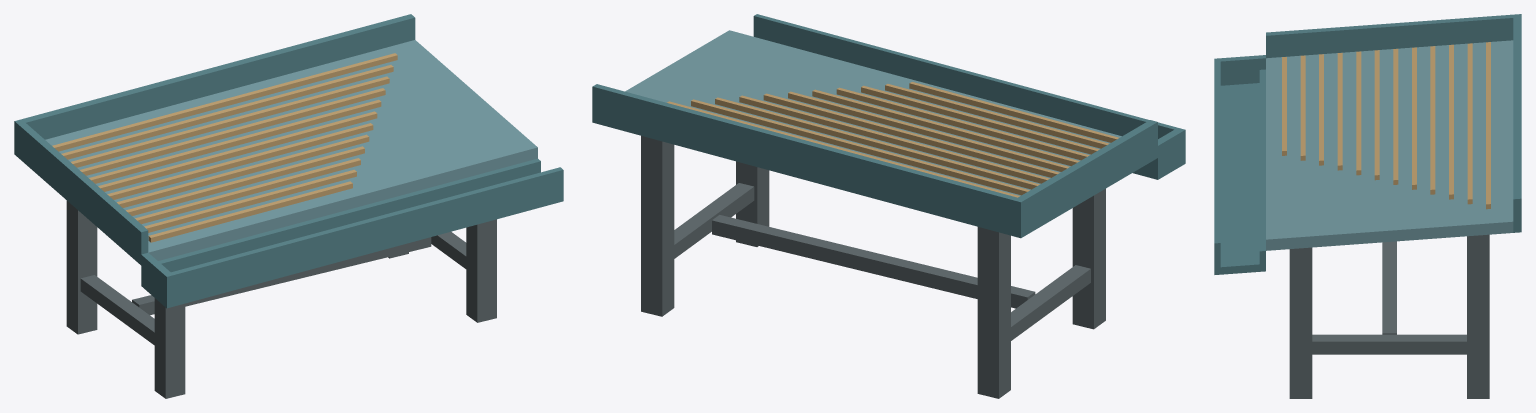
3 renders of one model, left to right at view 1: azimuth 30°, elevation 25°; view 2: azimuth 150°, elevation 25°; view 3: azimuth 270°, elevation 25°, orthographic. The views are drawn at different scales.
Parts seen in each view (by area): view 1: WholeSolidInclinedDressingDeck, FullCollectionOuterLip, HighSideContinuousGuard, FullCollectionInnerWall, FeedEndContinuousGuard, WholeGroundedLeg_-0.88_0.43, WholeGroundedLeg_0.88_-0.43, WholeGroundedLeg_-0.88_-0.43, WholeGraduatedRiffle_11, WholeGraduatedRiffle_10, WholeGraduatedRiffle_09, WholeGraduatedRiffle_08 (+12 smaller); view 2: HighSideContinuousGuard, WholeSolidInclinedDressingDeck, FullCollectionOuterLip, LowLongitudinalFrameTie, FeedEndContinuousGuard, WholeGroundedLeg_0.88_0.43, WholeGroundedLeg_-0.88_0.43, WholeGroundedLeg_-0.88_-0.43, WholeGraduatedRiffle_09, WholeGraduatedRiffle_08, WholeGraduatedRiffle_07, WholeGraduatedRiffle_06 (+11 smaller); view 3: WholeSolidInclinedDressingDeck, FullLowSideCollectionFloor, FeedEndContinuousGuard, WholeGroundedLeg_0.88_0.43, WholeGroundedLeg_0.88_-0.43, LowTransverseBrace_0.88, HighSideContinuousGuard, FullCollectionOuterLip, LowLongitudinalFrameTie, FullCollectionInnerWall, ClosedCollectionFeedEnd, WholeGraduatedRiffle_10 (+11 smaller).
Boxes of the visible parts, x1,y1,x2,y2 form: WholeSolidInclinedDressingDeck: [45, 40, 537, 260]; FullCollectionOuterLip: [171, 167, 563, 306]; HighSideContinuousGuard: [22, 14, 415, 139]; FullCollectionInnerWall: [158, 158, 540, 272]; FeedEndContinuousGuard: [14, 119, 148, 265]; WholeGroundedLeg_-0.88_0.43: [66, 200, 97, 334]; WholeGroundedLeg_0.88_-0.43: [466, 219, 496, 322]; WholeGroundedLeg_-0.88_-0.43: [154, 298, 185, 398]; WholeGraduatedRiffle_11: [52, 53, 397, 151]; WholeGraduatedRiffle_10: [61, 65, 393, 159]; WholeGraduatedRiffle_09: [71, 76, 389, 167]; WholeGraduatedRiffle_08: [80, 88, 385, 175]; HighSideContinuousGuard: [592, 84, 1016, 235]; WholeSolidInclinedDressingDeck: [625, 30, 1121, 195]; FullCollectionOuterLip: [753, 14, 1177, 138]; LowLongitudinalFrameTie: [712, 215, 1035, 308]; FeedEndContinuousGuard: [1013, 120, 1157, 238]; WholeGroundedLeg_0.88_0.43: [641, 136, 674, 316]; WholeGroundedLeg_-0.88_0.43: [977, 227, 1010, 398]; WholeGroundedLeg_-0.88_-0.43: [1072, 188, 1105, 329]; WholeGraduatedRiffle_09: [691, 99, 1029, 195]; WholeGraduatedRiffle_08: [715, 97, 1039, 189]; WholeGraduatedRiffle_07: [739, 95, 1049, 183]; WholeGraduatedRiffle_06: [763, 93, 1059, 177]; WholeSolidInclinedDressingDeck: [1266, 40, 1513, 250]; FullLowSideCollectionFloor: [1220, 83, 1265, 274]; FeedEndContinuousGuard: [1266, 14, 1521, 58]; WholeGroundedLeg_0.88_0.43: [1467, 234, 1489, 398]; WholeGroundedLeg_0.88_-0.43: [1289, 247, 1312, 398]; LowTransverseBrace_0.88: [1312, 334, 1466, 354]; HighSideContinuousGuard: [1513, 17, 1521, 232]; FullCollectionOuterLip: [1214, 61, 1220, 274]; LowLongitudinalFrameTie: [1382, 241, 1396, 334]; FullCollectionInnerWall: [1259, 69, 1265, 264]; ClosedCollectionFeedEnd: [1214, 55, 1265, 85]; WholeGraduatedRiffle_10: [1467, 43, 1472, 204].
Bounding box in the file's own units: 2.24 × 1.15 × 1.49.
